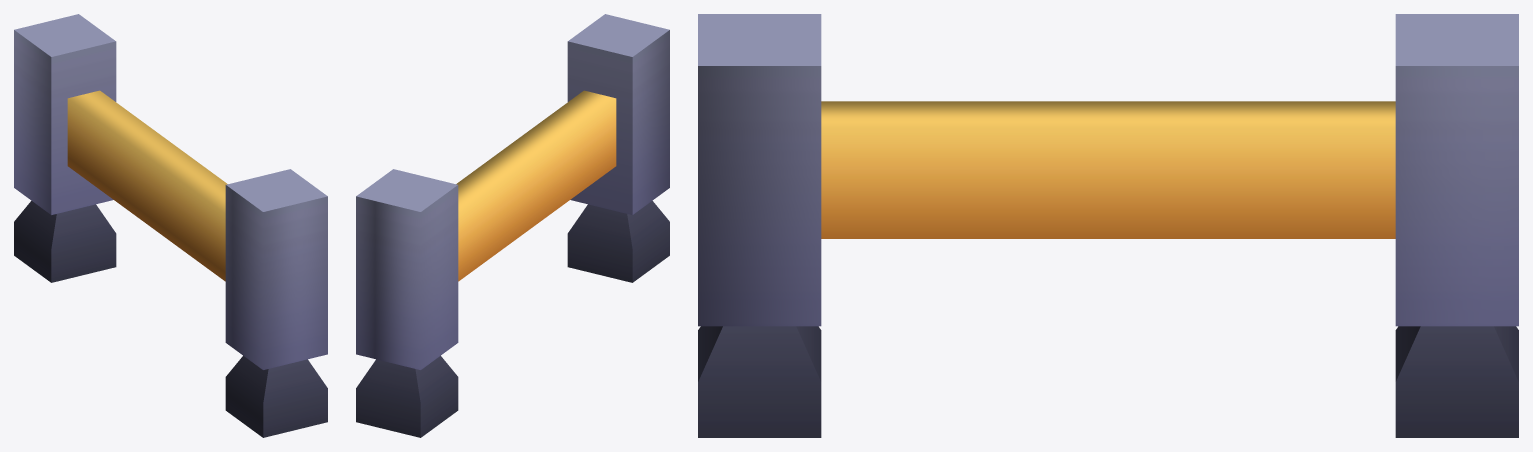
Rendered from kenney-conveyor-structure-yellow-short.glb.
The picture shows the model from 3 angles, left to right: view 1: azimuth 30°, elevation 25°; view 2: azimuth 150°, elevation 25°; view 3: azimuth 270°, elevation 25°; orthographic projection. The views are drawn at different scales.
Visible parts, largest first — view 1: structure-yellow-short; view 2: structure-yellow-short; view 3: structure-yellow-short.
Boxes of the visible parts, x1,y1,x2,y2 form: structure-yellow-short: [14, 14, 327, 437]; structure-yellow-short: [356, 14, 669, 437]; structure-yellow-short: [698, 14, 1518, 437].
Bounding box in the file's own units: 0.15 × 0.5001 × 1.
Materials: 1 (1 with a texture image).
